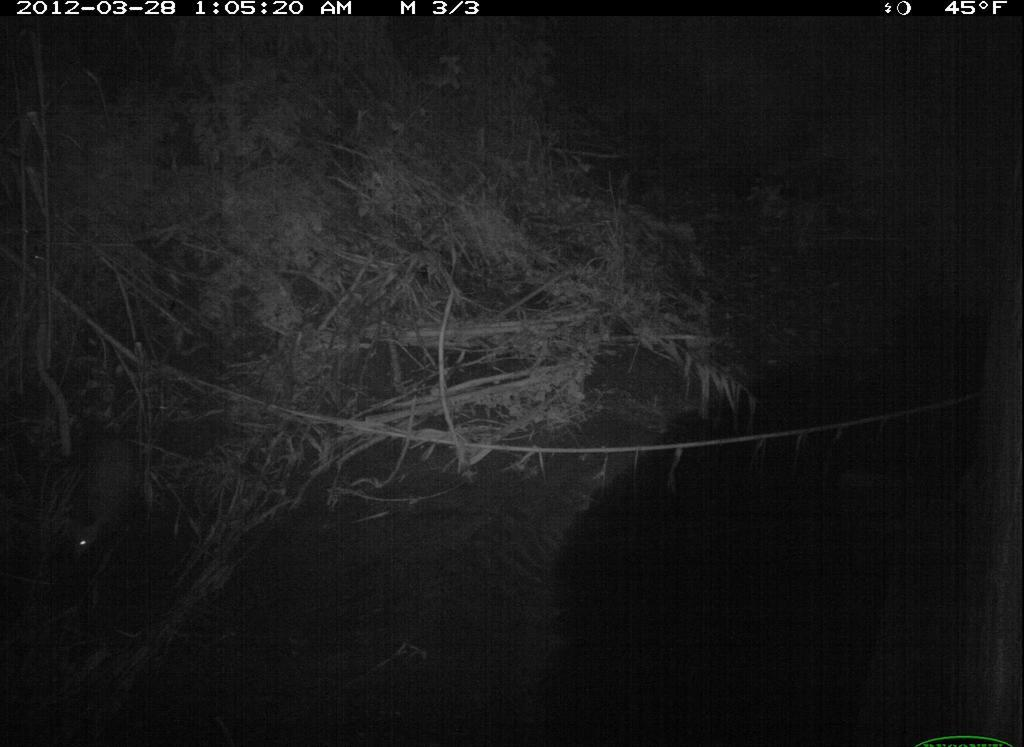opossum: (58, 419, 141, 570)
